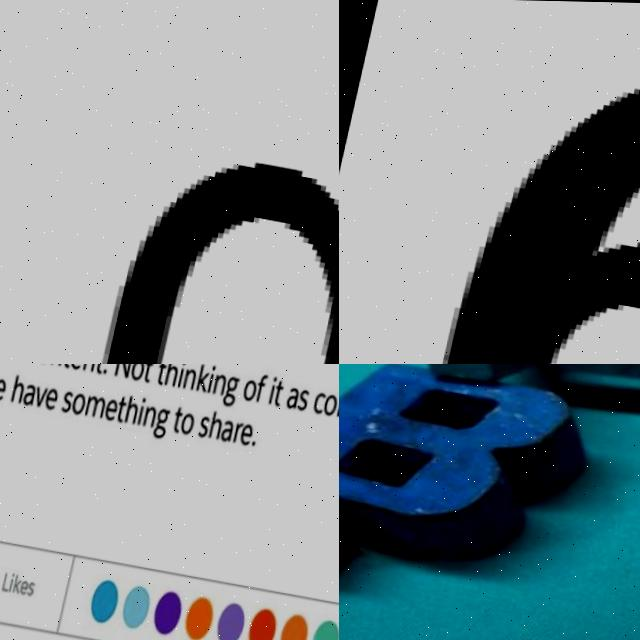6: (400, 31, 640, 364)
A: (223, 415, 240, 443), (289, 385, 305, 409), (26, 381, 41, 406)
B: (339, 364, 615, 587)
C: (316, 390, 331, 413)
D: (61, 3, 339, 364)
E: (106, 397, 124, 421), (47, 386, 64, 411), (243, 420, 258, 446), (0, 376, 13, 402), (71, 364, 89, 372), (27, 580, 35, 595)
F: (257, 371, 272, 402)
G: (156, 405, 175, 440), (225, 374, 245, 407)
H: (129, 393, 145, 423), (213, 409, 229, 438), (15, 374, 30, 404), (168, 364, 184, 386)
I: (141, 395, 151, 425), (210, 364, 220, 391), (271, 373, 280, 403), (180, 364, 189, 386), (15, 571, 21, 593)
K: (200, 364, 215, 391), (19, 572, 29, 595)
L: (7, 571, 19, 592)
M: (89, 393, 111, 419)
N: (215, 371, 232, 396), (147, 404, 161, 427), (186, 368, 200, 388), (117, 364, 137, 377), (85, 364, 100, 372)
O: (182, 409, 201, 436), (74, 391, 91, 416), (245, 377, 262, 401), (325, 390, 339, 415), (133, 364, 149, 381)
R: (237, 420, 249, 443)
S: (64, 388, 79, 413), (301, 387, 315, 410), (201, 414, 215, 437), (33, 580, 42, 597)
T: (175, 404, 189, 433), (276, 378, 289, 406), (119, 395, 132, 422), (158, 364, 172, 386), (145, 364, 158, 382), (97, 364, 110, 373)
V: (37, 385, 53, 409)
